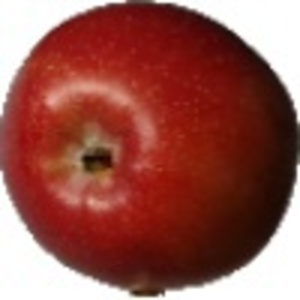maçã braeburn: (1, 2, 297, 289)
